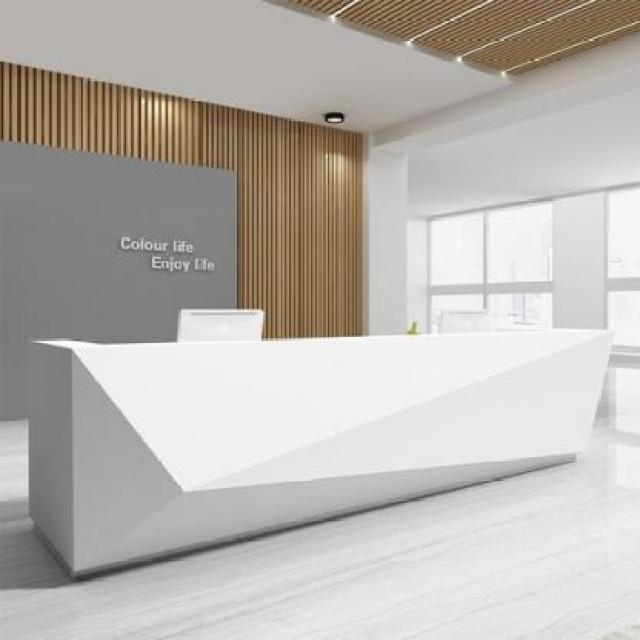frontdesk: (22, 291, 620, 586)
